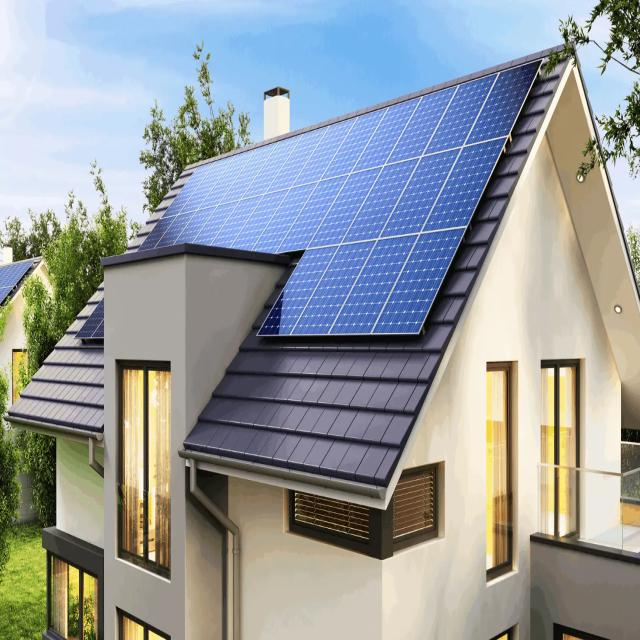clean-solar-panel: (144, 60, 540, 338)
